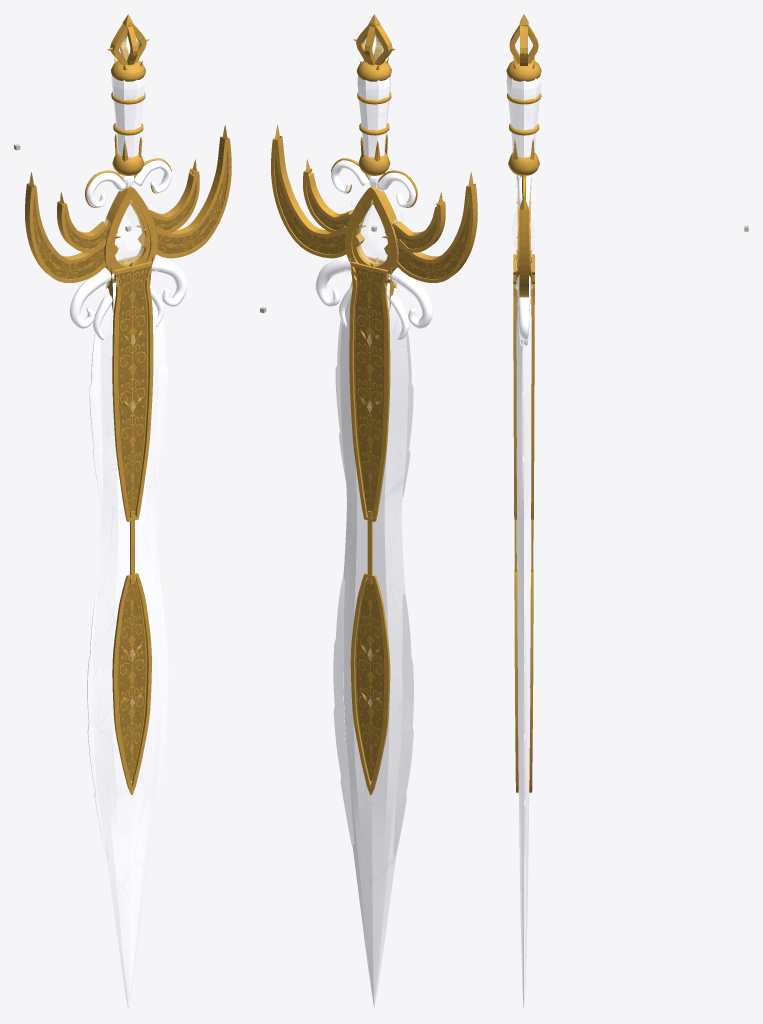
Rendered from SeraphBlade.glb.
The picture shows the model from 3 angles, left to right: view 1: azimuth 30°, elevation 25°; view 2: azimuth 150°, elevation 25°; view 3: azimuth 270°, elevation 25°; orthographic projection.
Visible parts, largest first — view 1: Blade, BladeOrnament, Guard, GuardCurls, Grip, Gemstones, Pommel, GripGold; view 2: Blade, BladeOrnament, Guard, GuardCurls, Grip, Gemstones, Pommel, GripGold; view 3: Blade, BladeOrnament, Grip, Guard, Pommel, GripGold, GuardCurls, Gemstones.
Boxes of the visible parts, x1=… form: Blade: x1=87, y1=280, x2=168, y2=1008; BladeOrnament: x1=112, y1=256, x2=153, y2=795; Guard: x1=25, y1=124, x2=231, y2=312; GuardCurls: x1=69, y1=160, x2=186, y2=340; Grip: x1=111, y1=75, x2=144, y2=157; Gemstones: x1=97, y1=35, x2=159, y2=706; Pommel: x1=107, y1=14, x2=149, y2=81; GripGold: x1=111, y1=92, x2=145, y2=175; Blade: x1=333, y1=280, x2=414, y2=1008; BladeOrnament: x1=349, y1=256, x2=390, y2=795; Guard: x1=271, y1=124, x2=477, y2=310; GuardCurls: x1=315, y1=160, x2=432, y2=340; Grip: x1=357, y1=75, x2=390, y2=157; Gemstones: x1=343, y1=35, x2=405, y2=707; Pommel: x1=353, y1=14, x2=395, y2=81; GripGold: x1=357, y1=92, x2=391, y2=175; Blade: x1=516, y1=280, x2=531, y2=1008; BladeOrnament: x1=513, y1=254, x2=534, y2=792; Grip: x1=506, y1=74, x2=541, y2=157; Guard: x1=516, y1=175, x2=531, y2=310; Pommel: x1=506, y1=14, x2=541, y2=81; GripGold: x1=507, y1=93, x2=541, y2=175; GuardCurls: x1=516, y1=175, x2=531, y2=345; Gemstones: x1=512, y1=36, x2=536, y2=701.
Bounding box in the file's own units: 1.05 × 4.94 × 1.09.
Materials: 3 (3 with a texture image).
